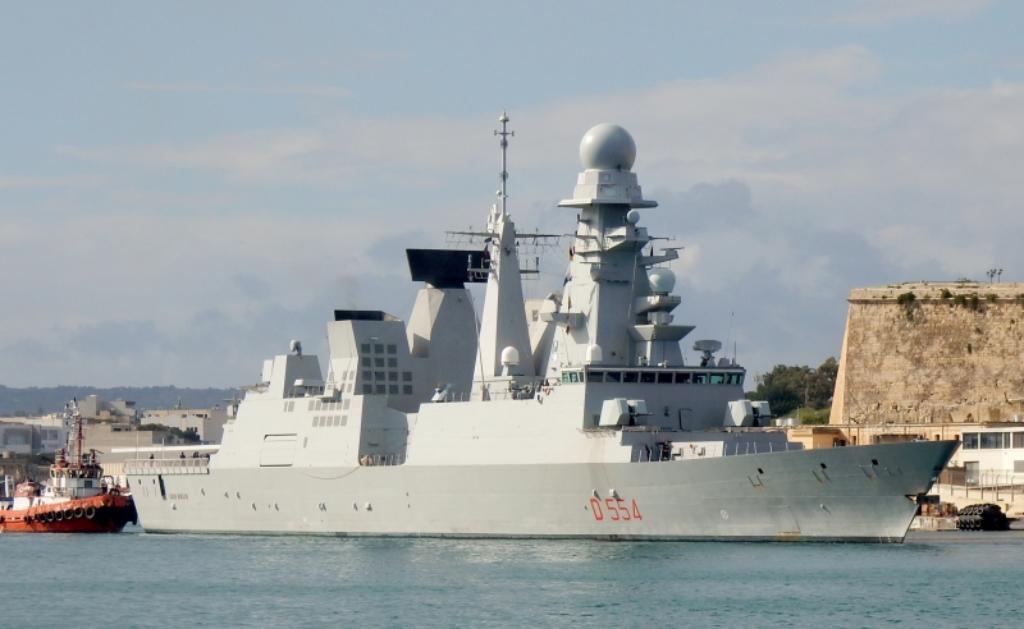Warship: (122, 104, 966, 546)
